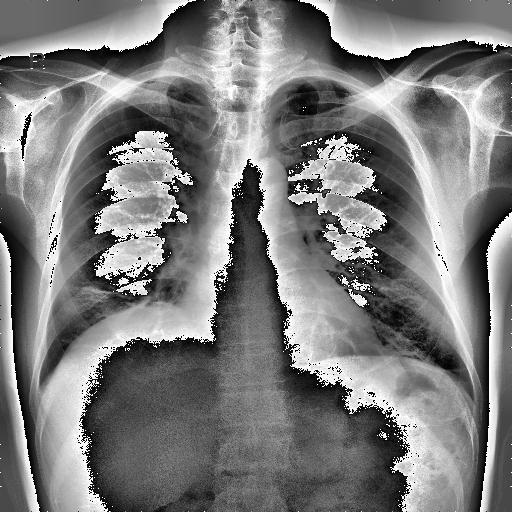13- Pulmonary fibrosis: (84, 284, 176, 336), (84, 282, 172, 310), (75, 281, 138, 298)
